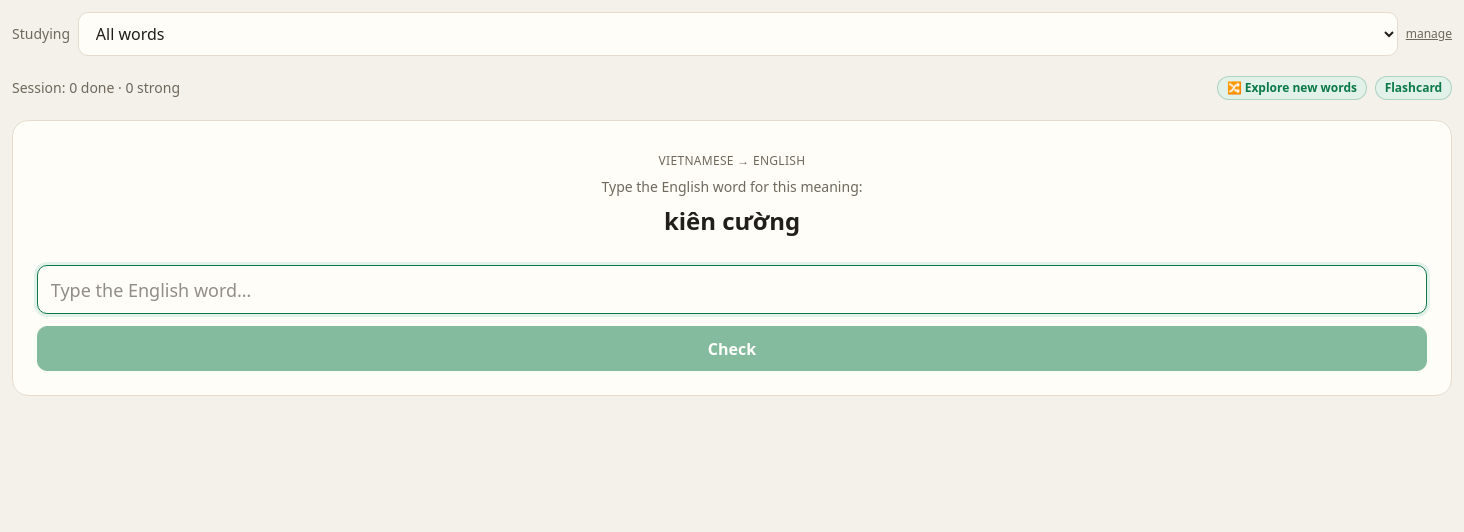
Test: PracticePage — non-AI Check shows a verdict and does not auto-advance › flashcard (VN→EN typed)
This screenshot has width=1464, height=532.
Expected: the text "Vietnamese → English" is shown, [659, 152, 805, 169]
Type "wrongword" into the field with placeholder "Type the English word…". click: (732, 290)
box: [37, 265, 1427, 314]
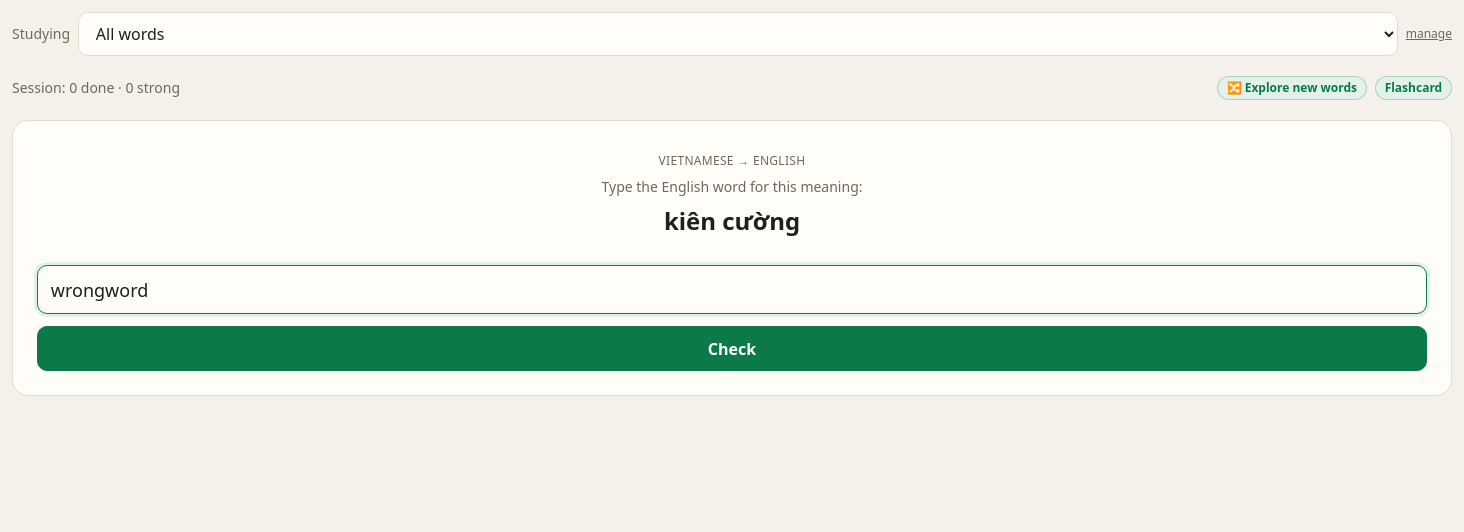
Click the button "Check". click: (732, 349)
box: [37, 326, 1427, 371]
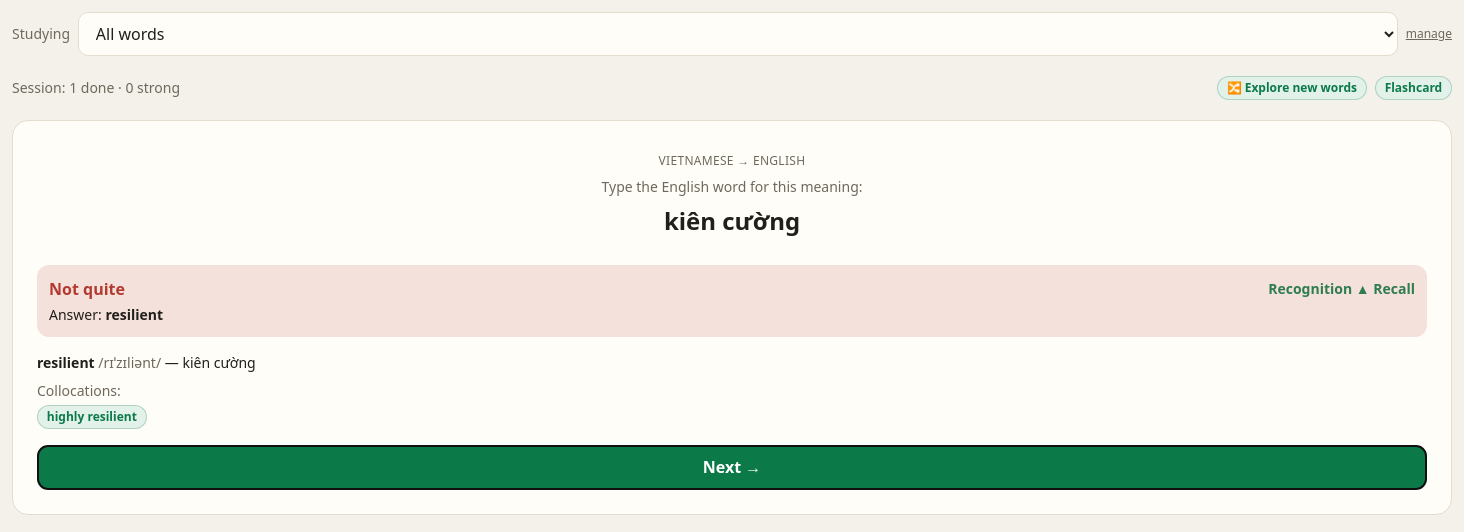
Now the text "Not quite" is shown, box [49, 277, 125, 301]
Now the button "Next →" is shown, box [37, 445, 1427, 490]
